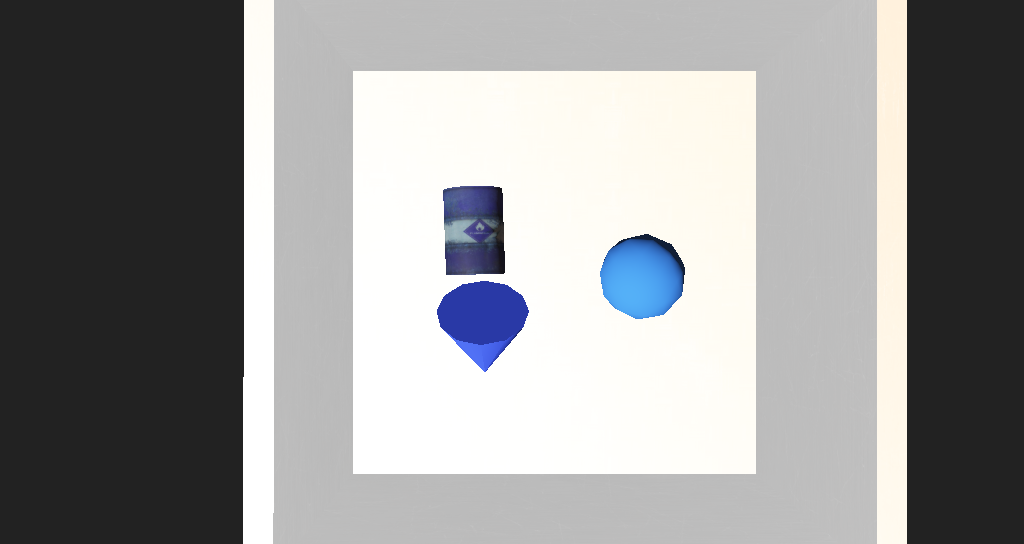cone: (418, 227, 472, 270)
cylinder: (418, 272, 485, 339)
sphere: (542, 251, 603, 293)
